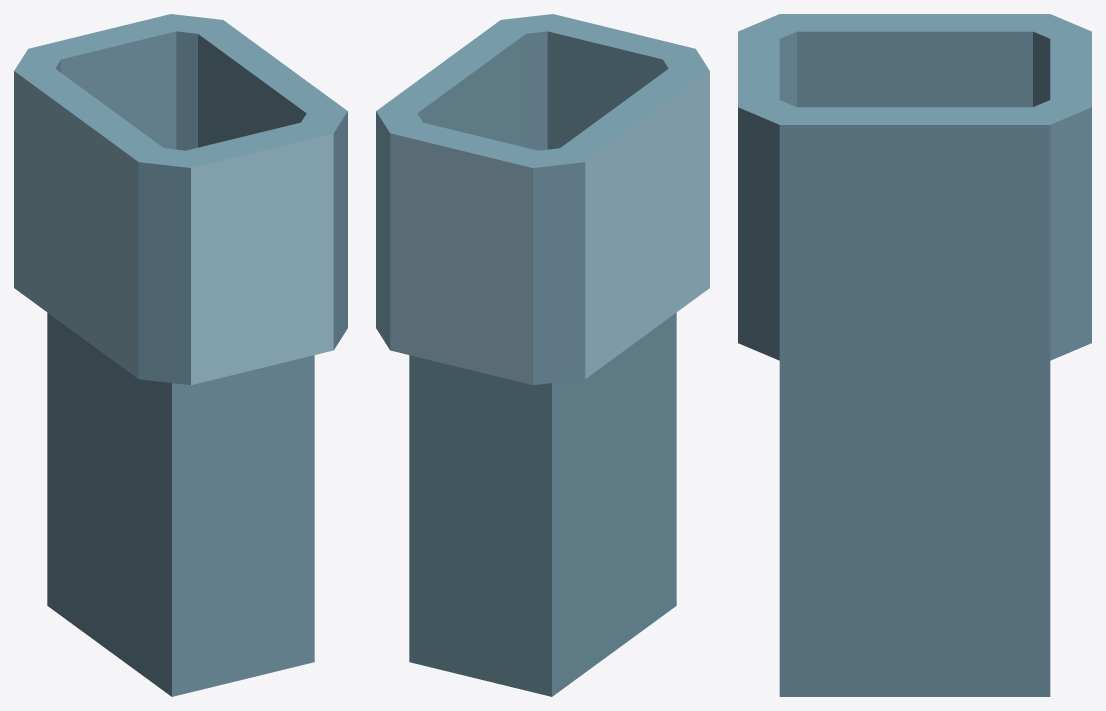
File: chimneyTop.fbx
3 views of the same model, side by side, from view 1: azimuth 30°, elevation 25°; view 2: azimuth 150°, elevation 25°; view 3: azimuth 270°, elevation 25° (orthographic). The views are drawn at different scales.
Visible parts, largest first — view 1: chimneyTop; view 2: chimneyTop; view 3: chimneyTop.
Boxes of the visible parts, bbox=[...] form: chimneyTop: bbox=[14, 14, 347, 696]; chimneyTop: bbox=[376, 14, 709, 696]; chimneyTop: bbox=[738, 14, 1091, 696].
Size of the model in its own units: 2.52 by 6.25 by 3.4.
